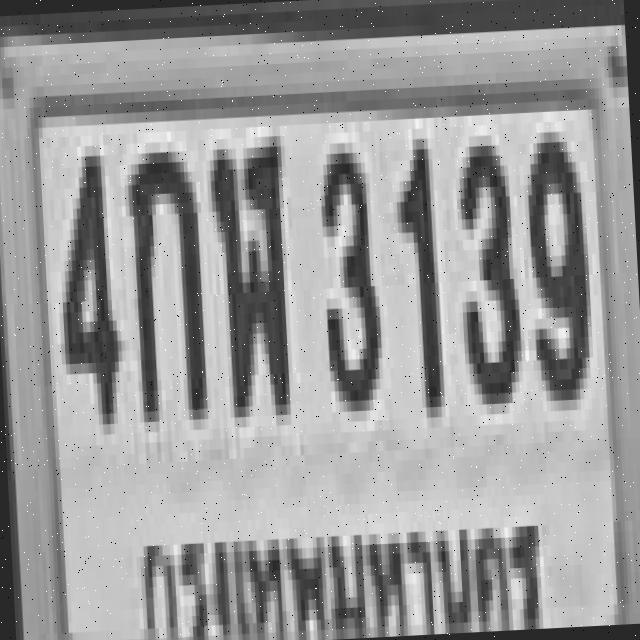1: (391, 128, 440, 408)
10GorGai: (122, 140, 204, 412)
3: (450, 134, 520, 396), (314, 137, 380, 397)
4: (51, 146, 117, 417)
51LorChula: (208, 125, 290, 408)
9: (521, 120, 587, 392)
Bangkok: (126, 497, 552, 640)
